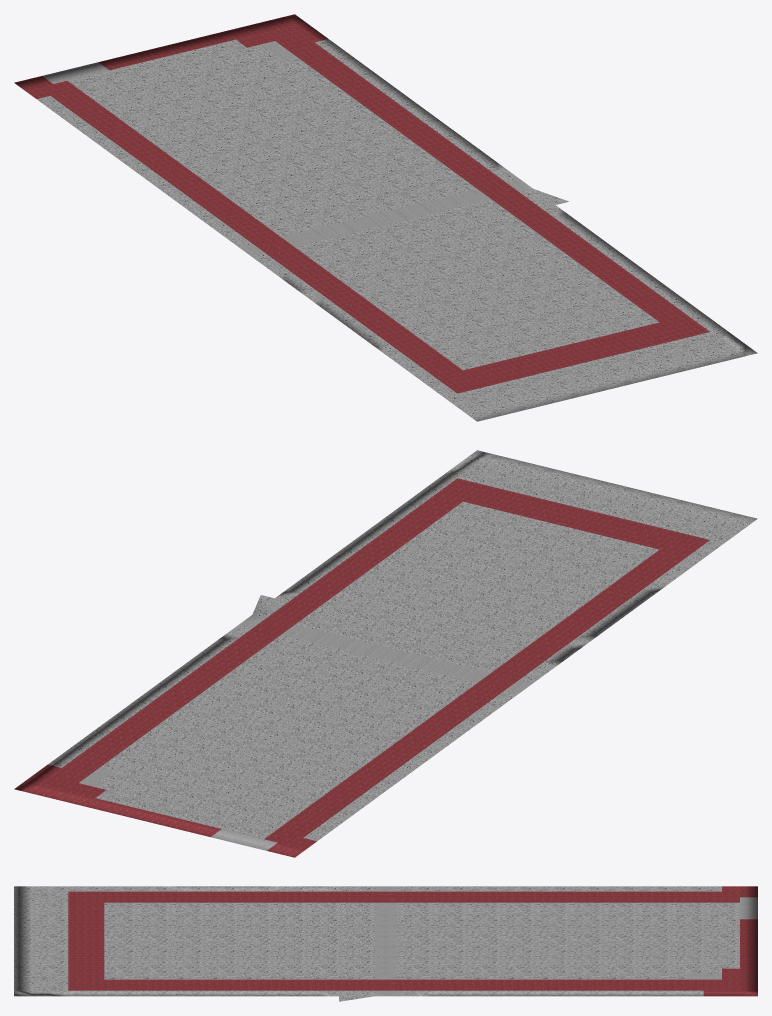
Rendered from ground.glb.
The picture shows the model from 3 angles, top to bottom: view 1: azimuth 30°, elevation 25°; view 2: azimuth 150°, elevation 25°; view 3: azimuth 270°, elevation 25°; orthographic projection. The views are drawn at different scales.
Visible parts, largest first — view 1: capilla.21684; view 2: capilla.21684; view 3: capilla.21684.
Boxes of the visible parts, x1,y1,x2,y2 form: capilla.21684: [14, 14, 757, 421]; capilla.21684: [14, 450, 757, 857]; capilla.21684: [14, 886, 757, 1001].
Bounding box in the file's own units: 6.45 × 5.15e-07 × 17.54.
2 materials, 2 textured.
